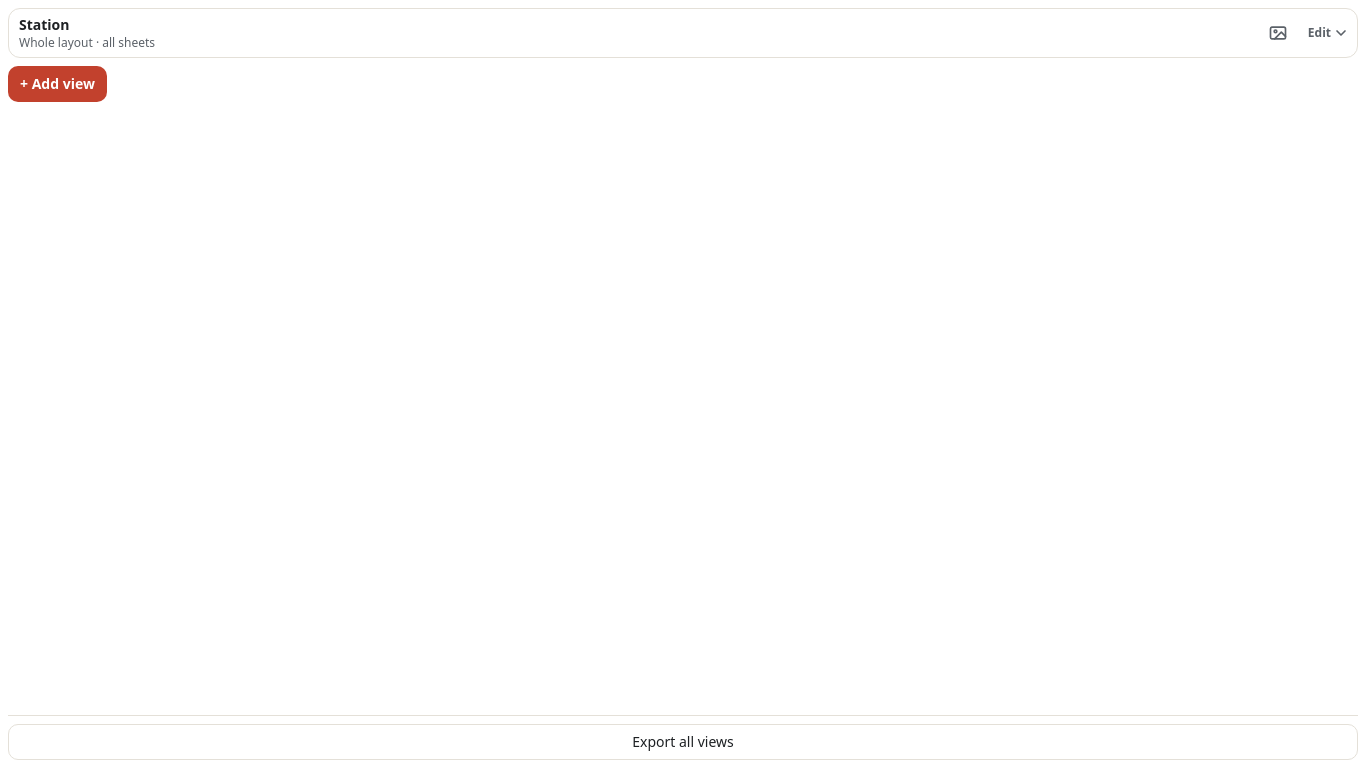
ViewsPanel › shows that a view opens and closes, and Done closes it
Click the button with aria-label "Change Station" at (1328, 33), box [1300,9,1357,57]
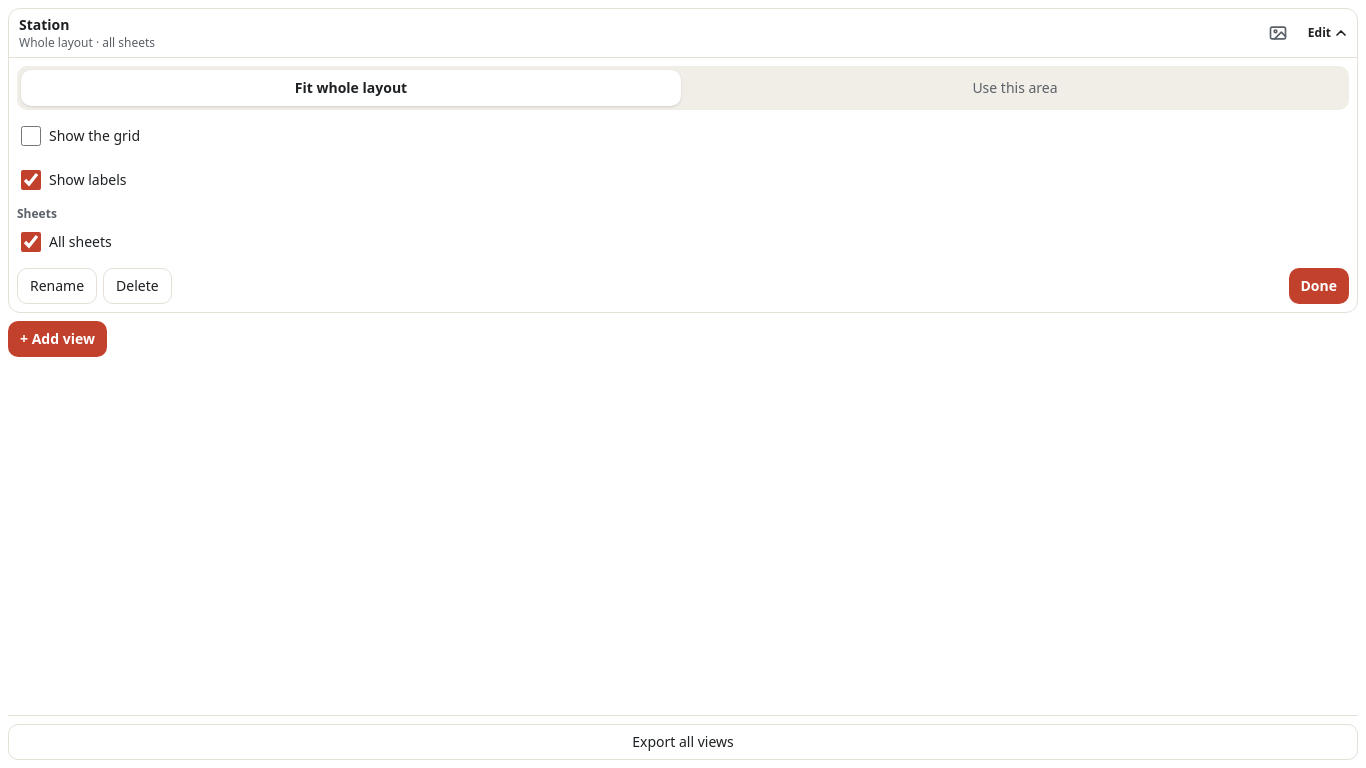
Expected: the button with aria-label "Change Station" is expanded, [1300,9,1357,57]
Click the button "Done" at (1319, 286), box [1288,268,1349,304]
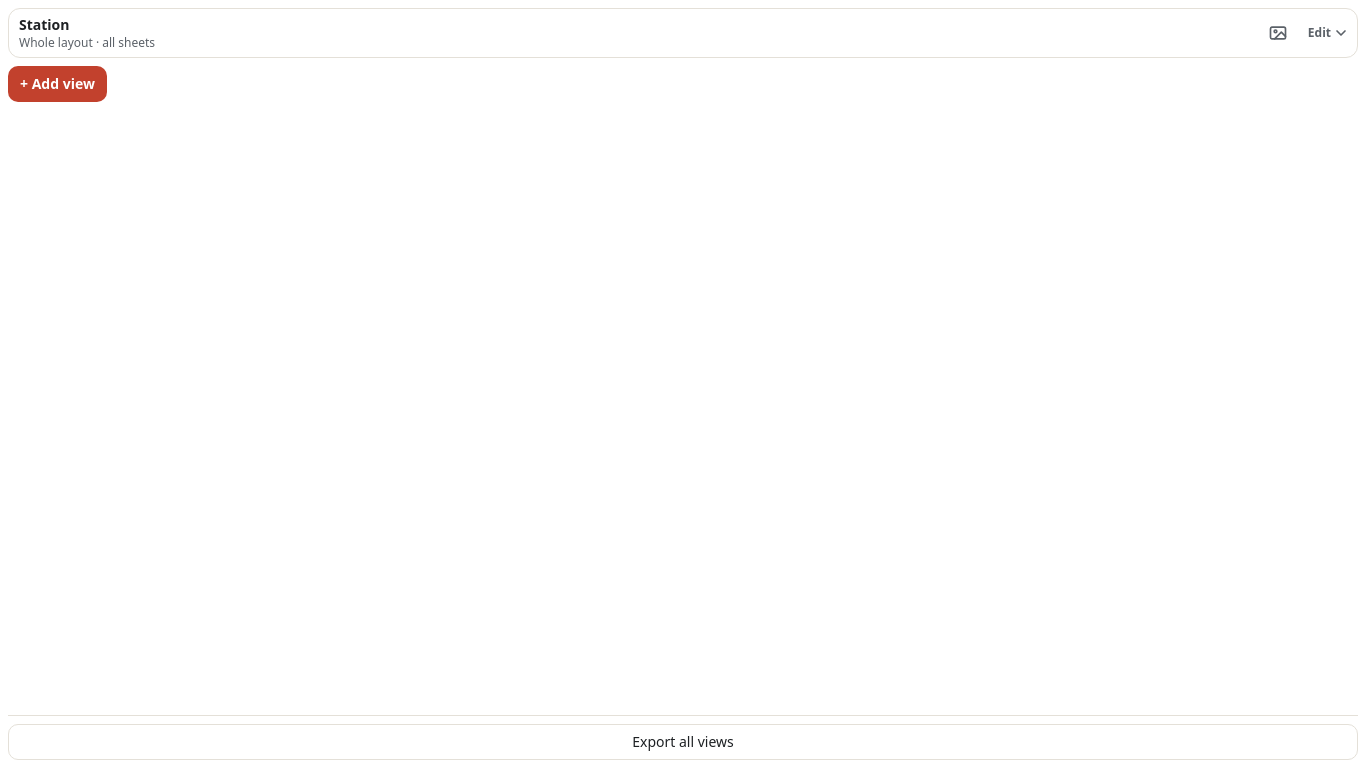
Expected: the element with test id "view-options" is gone
Expected: the button with aria-label "Change Station" is collapsed, [1300,9,1357,57]
